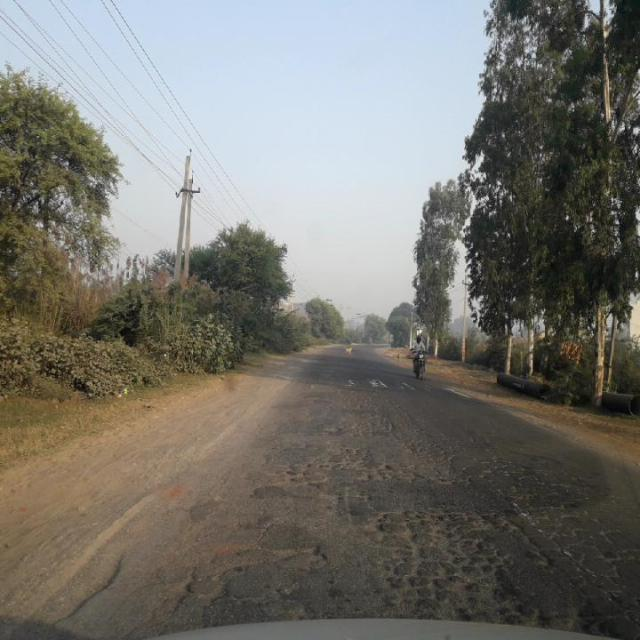Surface Erosion: (114, 295, 634, 640)
